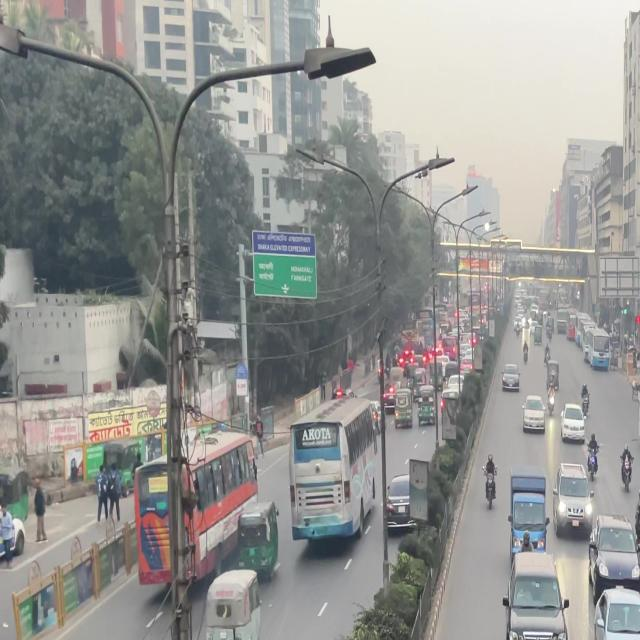bus: (132, 427, 264, 591), (289, 419, 377, 548)
car: (502, 557, 571, 640), (591, 516, 640, 592), (555, 477, 597, 540), (593, 591, 640, 640), (563, 405, 591, 441), (524, 399, 547, 432), (501, 372, 522, 394)
rickshaw: (201, 569, 266, 640)
van: (512, 491, 550, 556)
